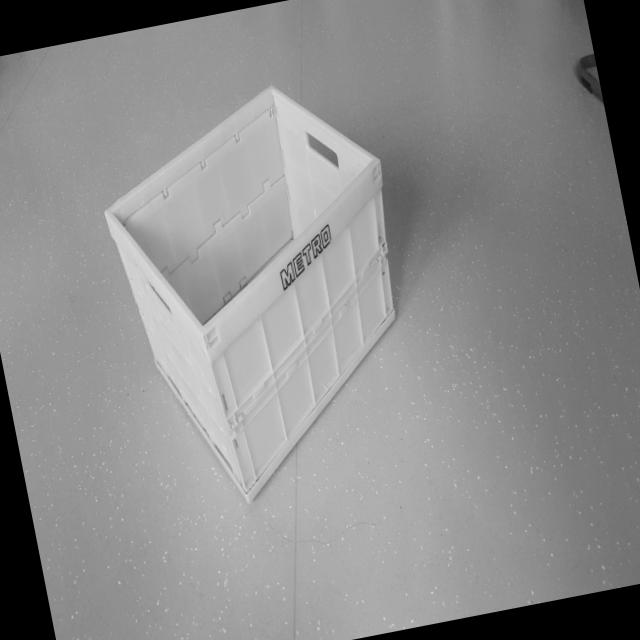box: (74, 61, 448, 532)
